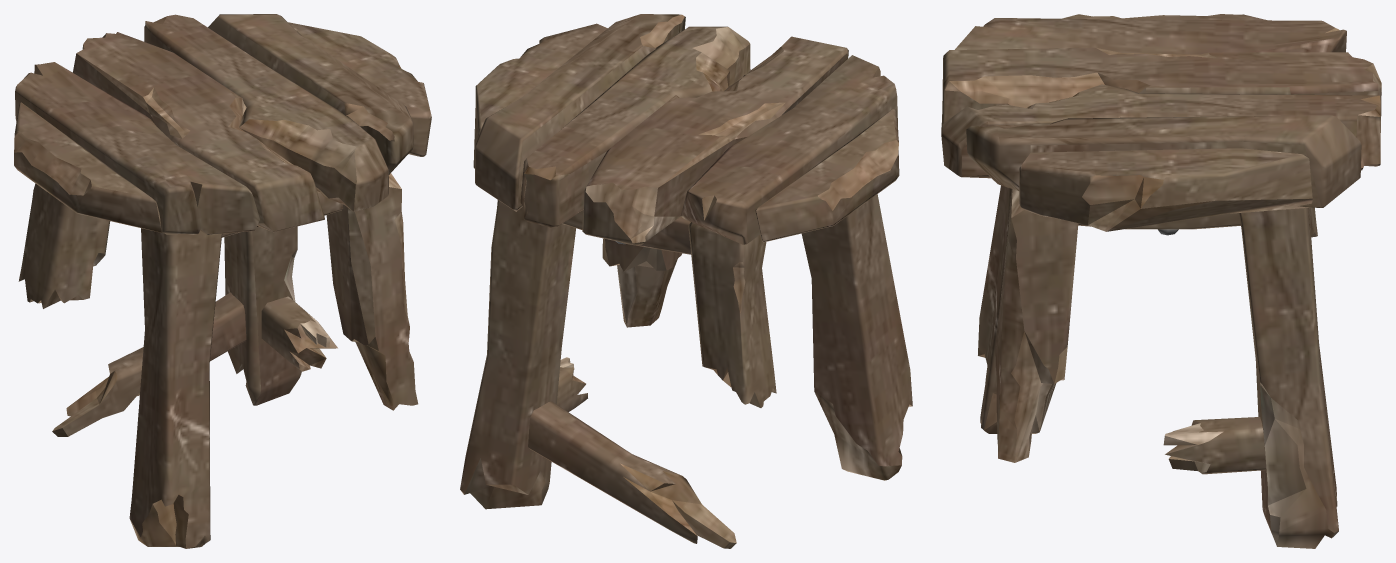
3 renders of one model, left to right at view 1: azimuth 30°, elevation 25°; view 2: azimuth 150°, elevation 25°; view 3: azimuth 270°, elevation 25°, orthographic. The views are drawn at different scales.
Parts seen in each view (by area): view 1: SM_Chair_01v2_LOD0; view 2: SM_Chair_01v2_LOD0; view 3: SM_Chair_01v2_LOD0.
Boxes of the visible parts, x1,y1,x2,y2 form: SM_Chair_01v2_LOD0: (14, 14, 431, 548); SM_Chair_01v2_LOD0: (460, 14, 912, 548); SM_Chair_01v2_LOD0: (941, 14, 1381, 548).
Bounding box in the file's own units: 0.5144 × 0.5201 × 0.501.
Materials: 1 (1 with a texture image).
